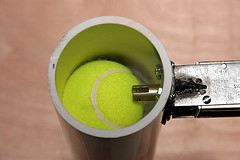tennis ball: (60, 56, 146, 133)
